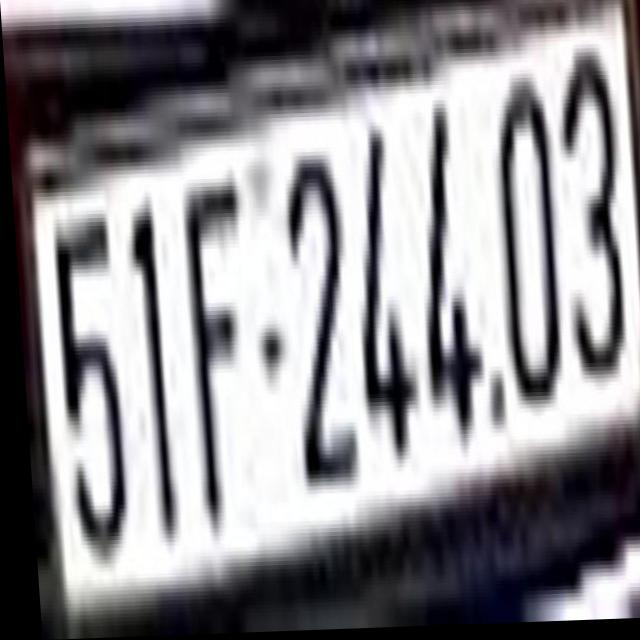0: (485, 77, 563, 424)
1: (122, 193, 176, 563)
2: (277, 145, 356, 500)
3: (555, 52, 625, 395)
4: (341, 124, 419, 491), (408, 103, 481, 442)
5: (44, 199, 128, 561)
F: (176, 171, 252, 515)
